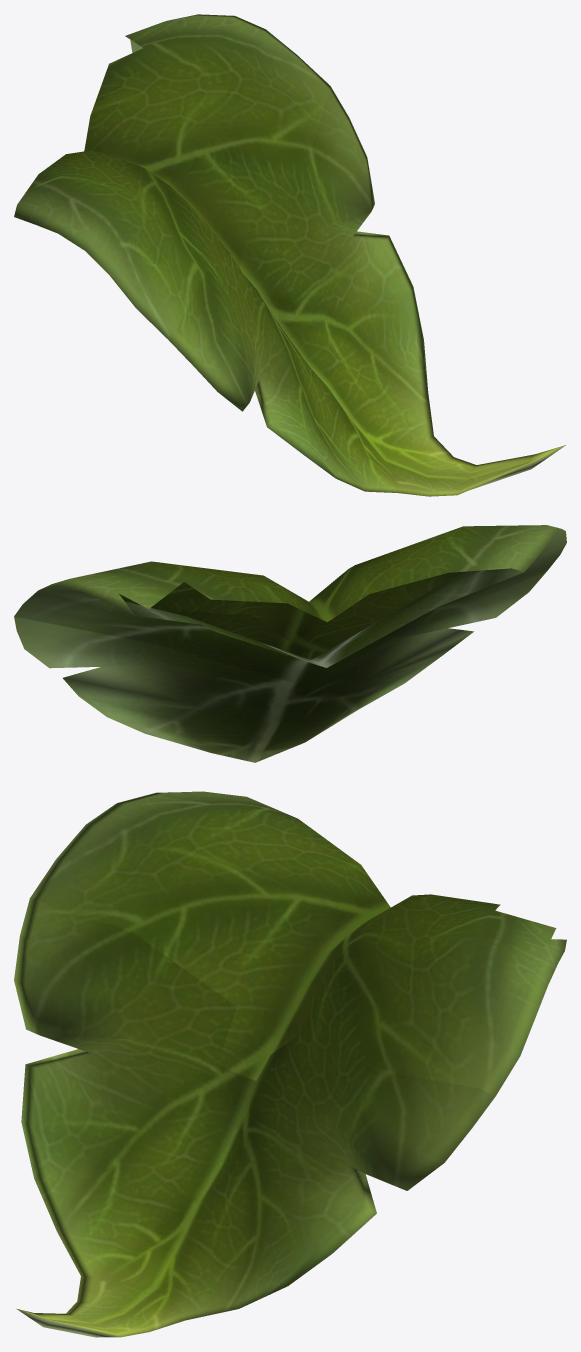
Rendered from sunflower_hoja_del_izq.obj.
3 views of the same model, one above another, from view 1: azimuth 30°, elevation 25°; view 2: azimuth 150°, elevation 25°; view 3: azimuth 270°, elevation 25° (orthographic). The views are drawn at different scales.
Visible parts, largest first — view 1: sunflower_hoja_del_izq; view 2: sunflower_hoja_del_izq; view 3: sunflower_hoja_del_izq.
Boxes of the visible parts, x1,y1,x2,y2 form: sunflower_hoja_del_izq: (14, 14, 565, 496); sunflower_hoja_del_izq: (14, 525, 566, 762); sunflower_hoja_del_izq: (14, 791, 566, 1337).
Size of the model in its own units: 0.2368 by 0.1718 by 0.2366.
